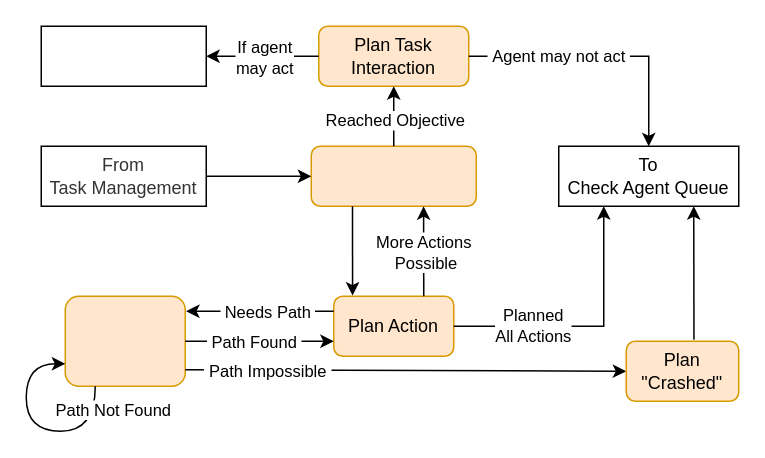
This 765x458 diagram has some shape labels left out. Here are the shapes that lost their labels. From the top down, the centre of each, then its label:
the point at 123,55: To Task Management
the point at 393,175: Determine Action
the point at 124,340: Find Path
